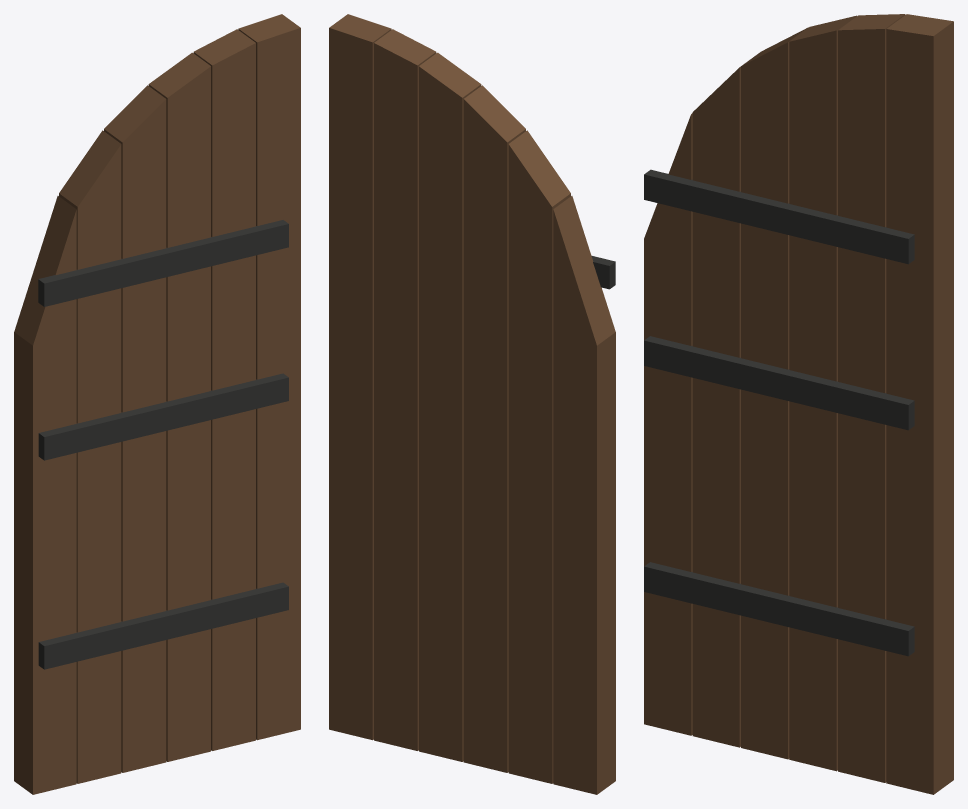
The model's file is hall_door_leaf.glb.
3 renders of one model, left to right at view 1: azimuth 30°, elevation 25°; view 2: azimuth 150°, elevation 25°; view 3: azimuth 330°, elevation 25°, orthographic. The views are drawn at different scales.
Parts seen in each view (by area): view 1: Hall door leaf; view 2: Hall door leaf; view 3: Hall door leaf.
Boxes of the visible parts, box(x1,y1,x2,y2) form: Hall door leaf: box(14, 14, 300, 794); Hall door leaf: box(329, 14, 615, 794); Hall door leaf: box(644, 14, 953, 794).
Size of the model in its own units: 0.657 by 1.64 by 0.104.
